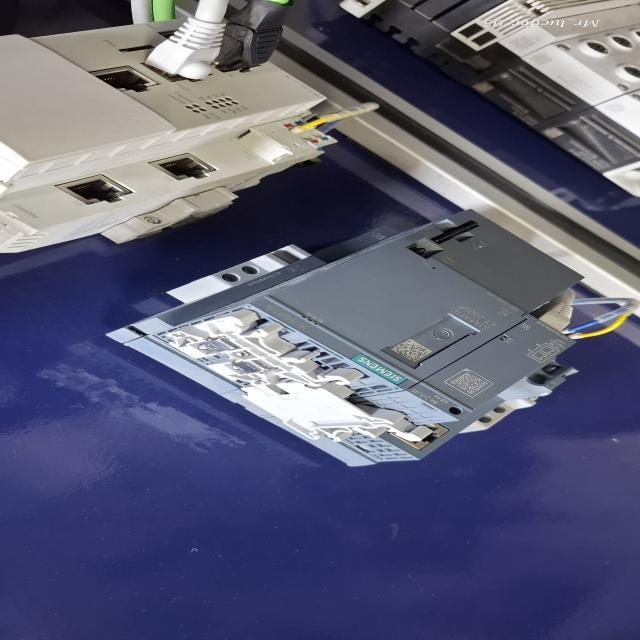Inverted: (231, 378, 448, 451)
Pass: (160, 310, 359, 387)
